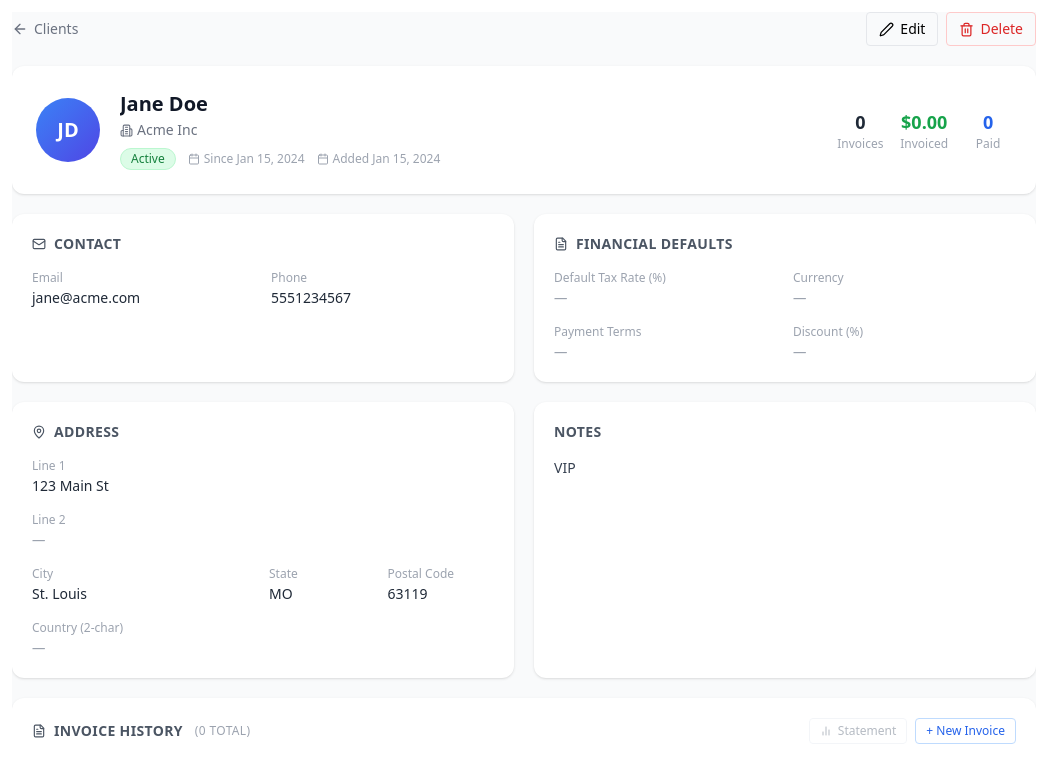
ClientDetail — required field validation › blocks save and shows error when name is cleared
The image size is (1048, 780).
Expected: the heading "Jane Doe" is shown, [120,90,208,117]
Click the button "Edit" at (902, 29), box [866,12,938,46]
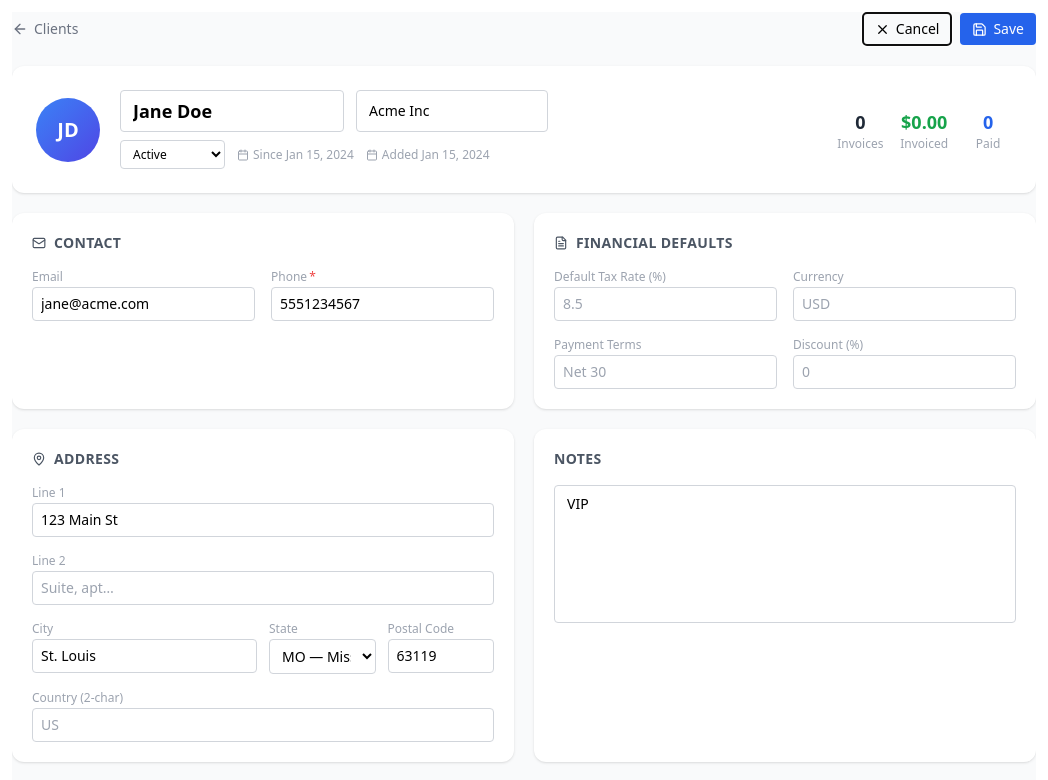
Clear the 1st field showing "Jane Doe" at (232, 111), box [120,90,344,132]
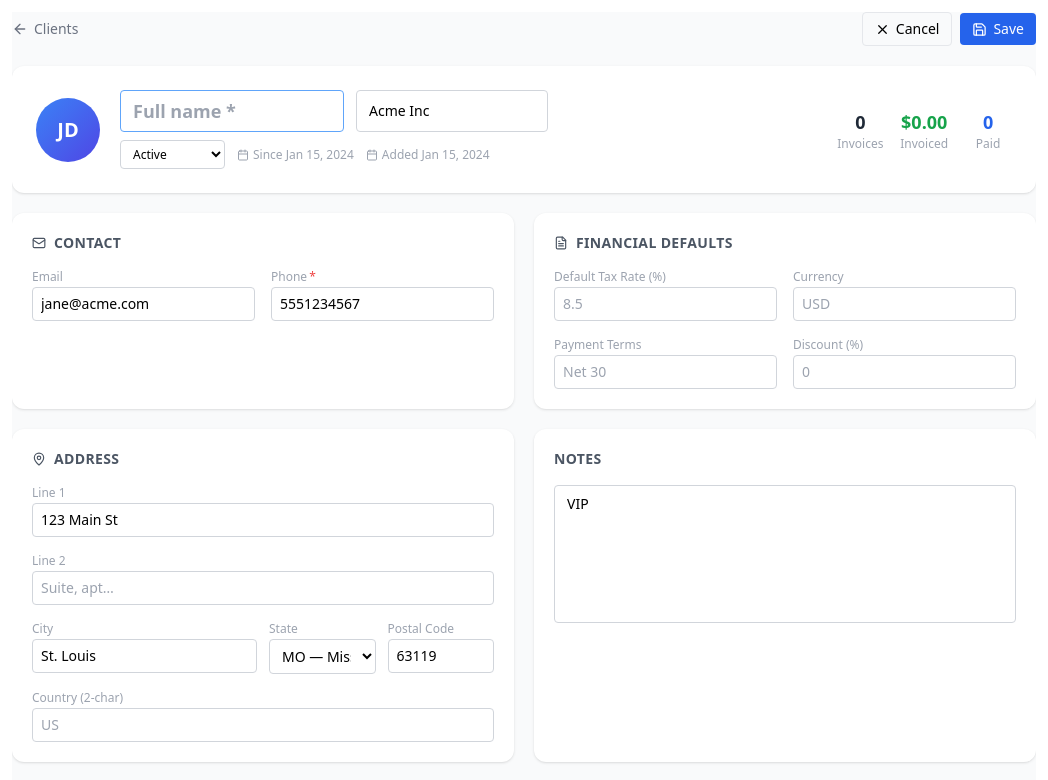
Click the button "Save" at (998, 29), box [960,13,1036,45]
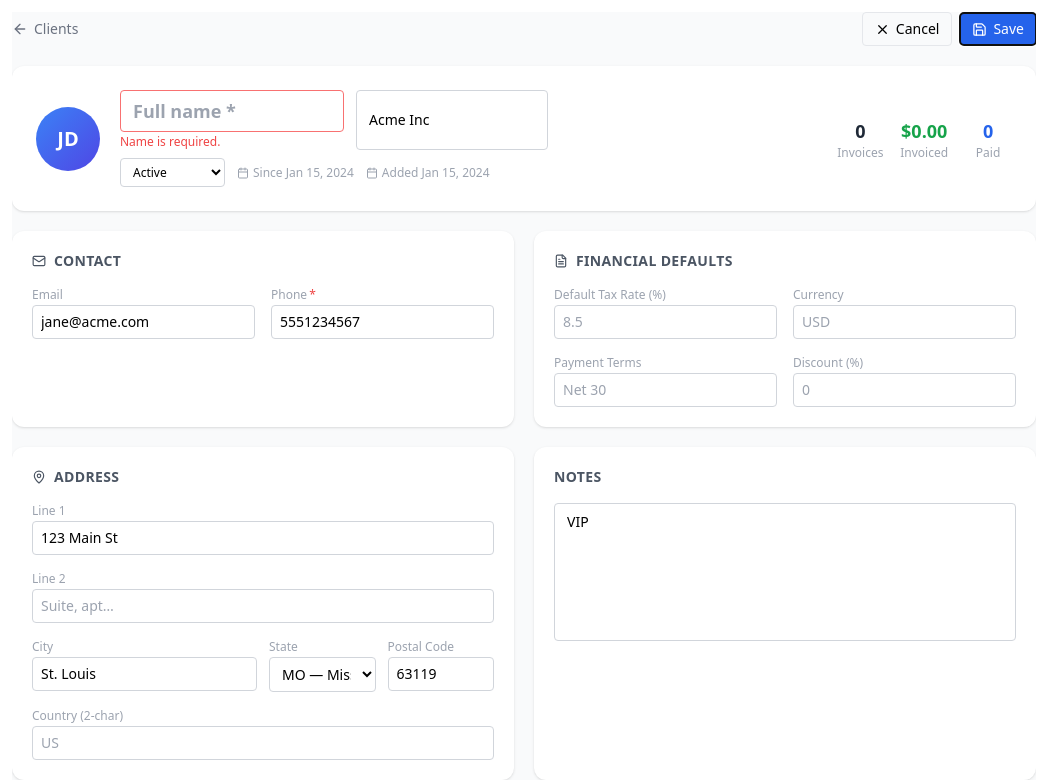
Expected: the text "Name is required." is shown, [120,133,220,150]
